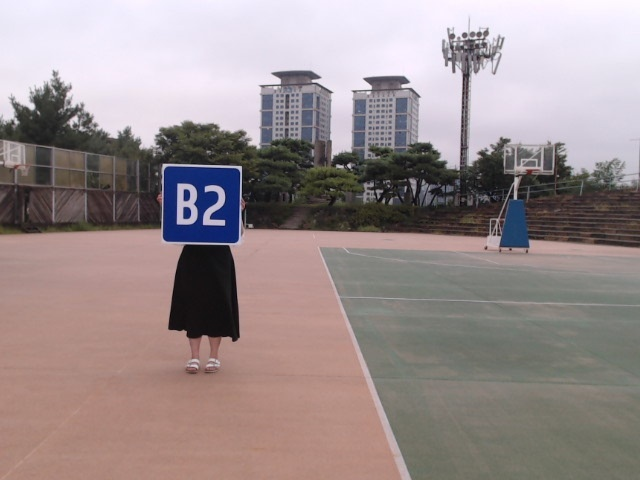delivery_b2: (162, 166, 240, 243)
